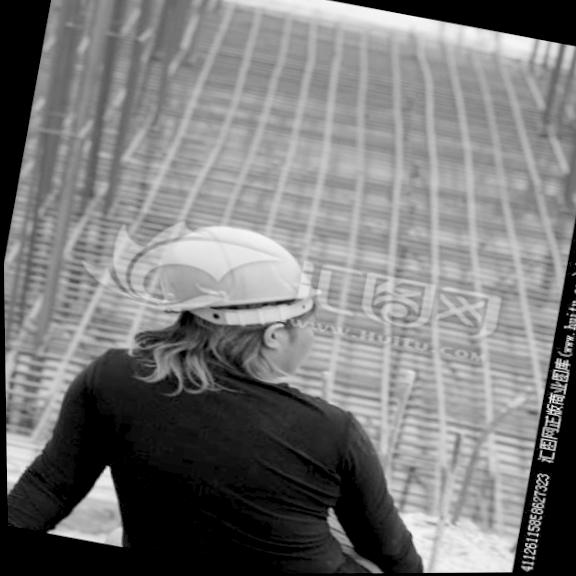no_safety_vest: (48, 325, 375, 576)
